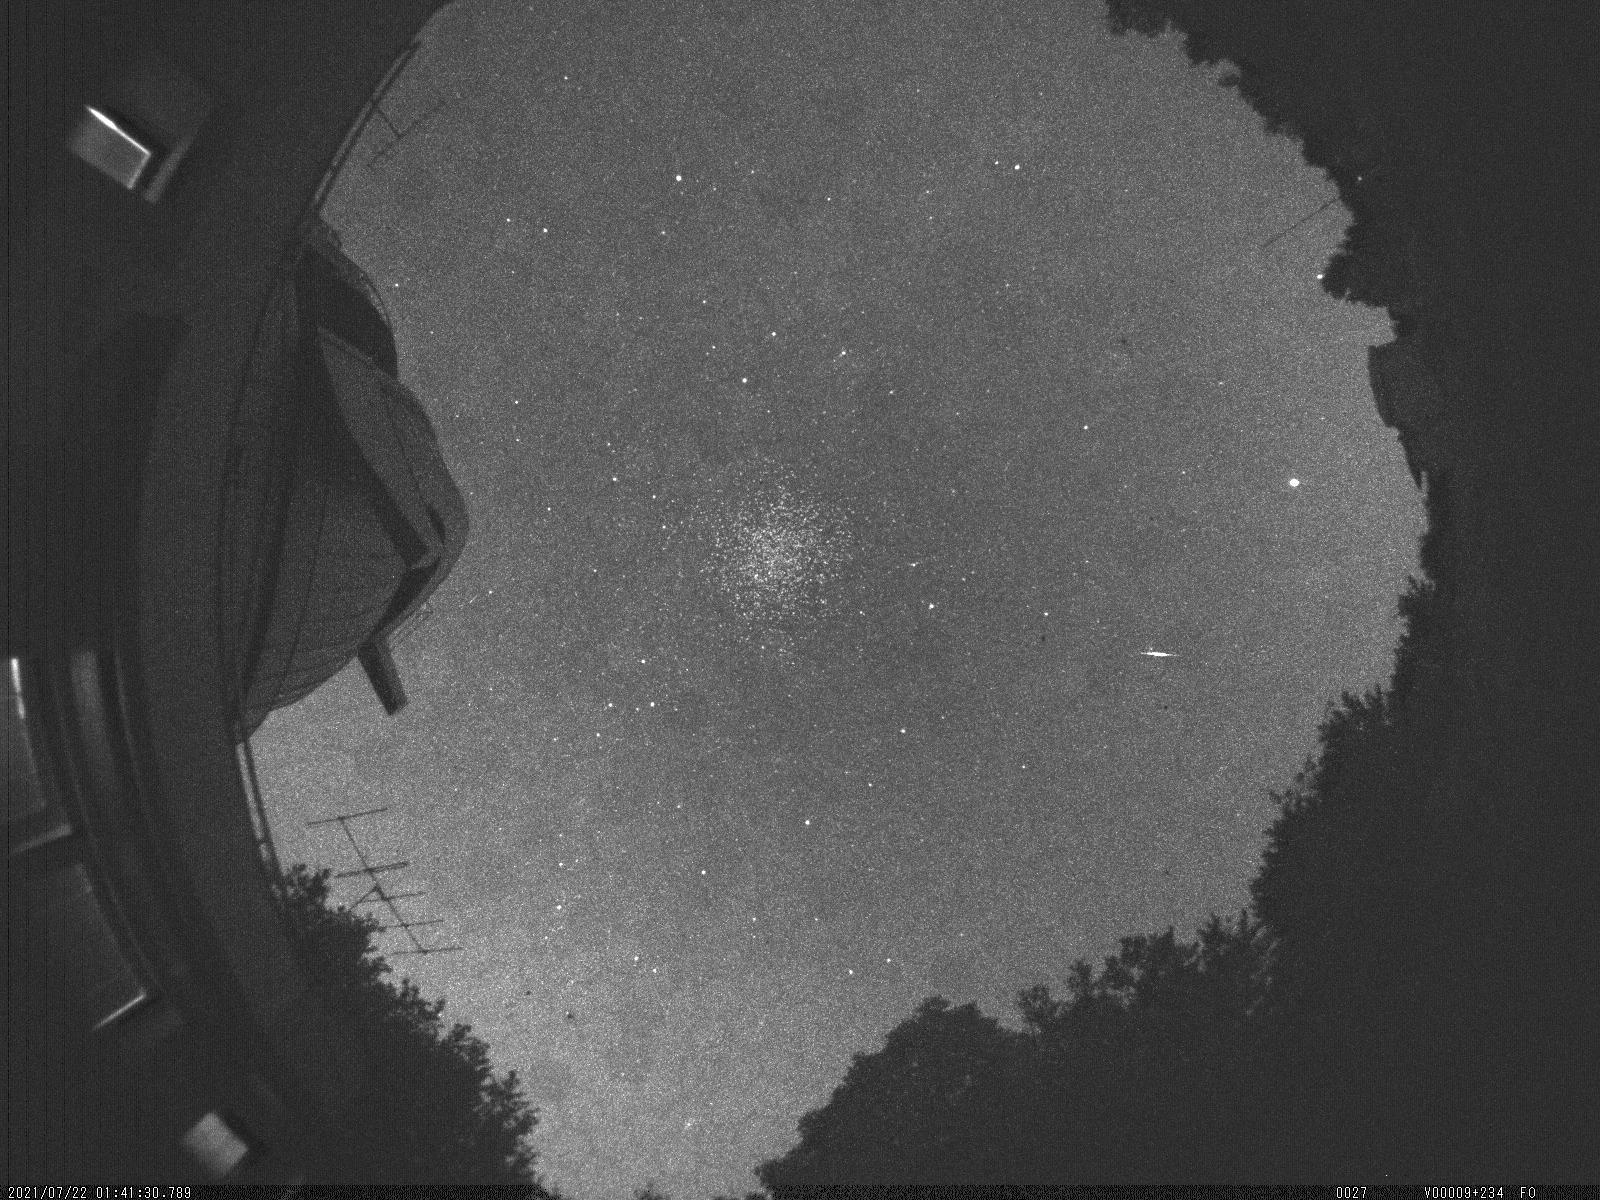Meteor: (1136, 644, 1182, 667)
